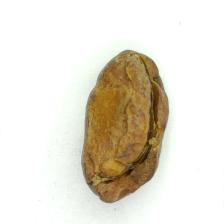NG: (87, 50, 166, 199)
